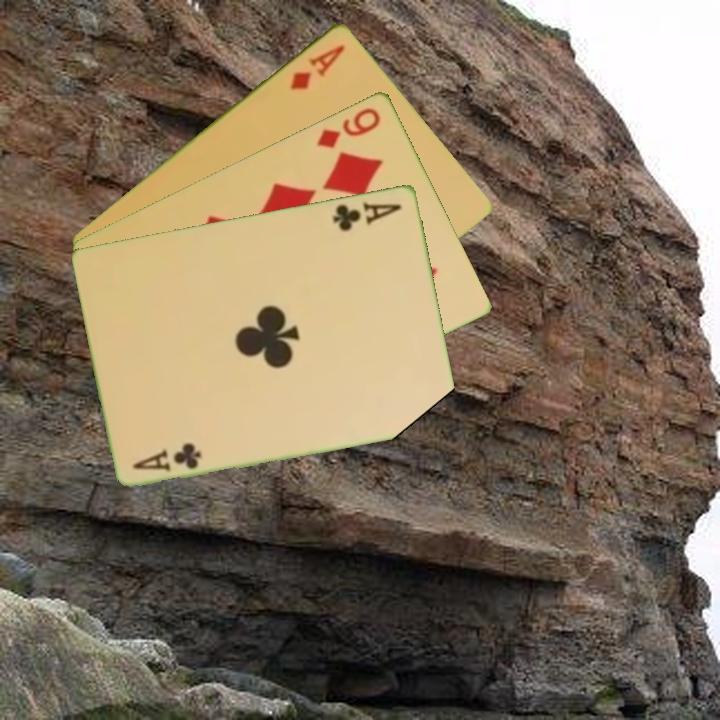9d: (313, 104, 384, 151)
Ac: (329, 197, 405, 234), (129, 439, 204, 474)
Ad: (287, 40, 348, 92)
